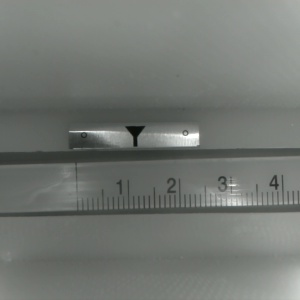1: (115, 179, 122, 195)
2: (165, 177, 175, 193)
3: (216, 177, 226, 192)
4: (269, 175, 279, 190)
finger: (124, 126, 145, 147)
